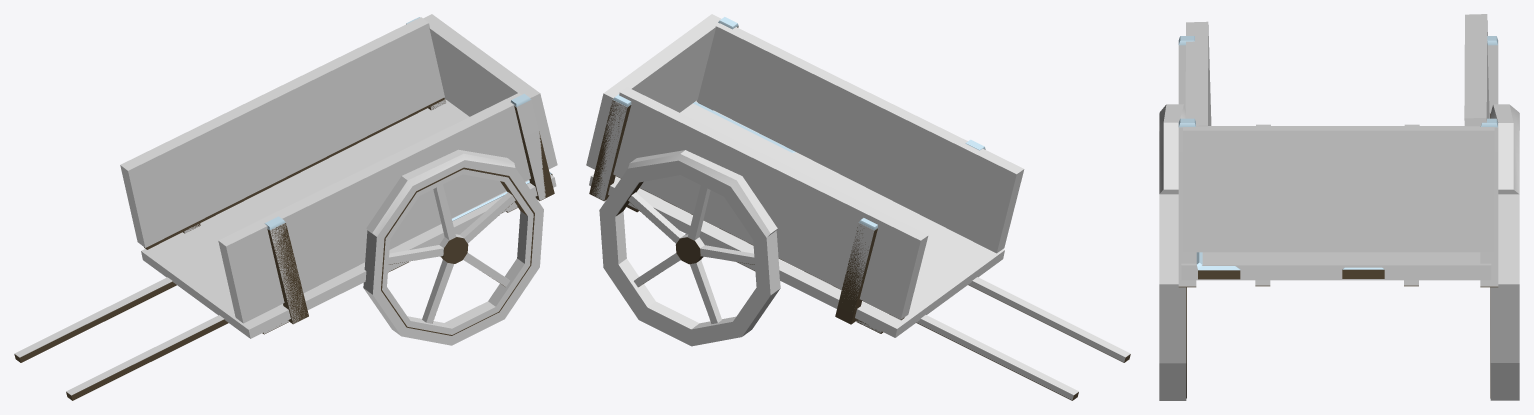
File: model_polytope_snow_cart.fbx
The picture shows the model from 3 angles, left to right: view 1: azimuth 30°, elevation 25°; view 2: azimuth 150°, elevation 25°; view 3: azimuth 270°, elevation 25°; orthographic projection. The views are drawn at different scales.
Parts seen in each view (by area): view 1: model_polytope_snow_cart_col, model_polytope_snow_cart; view 2: model_polytope_snow_cart_col, model_polytope_snow_cart; view 3: model_polytope_snow_cart_col, model_polytope_snow_cart.
Part boxes in pixels (x1=…): model_polytope_snow_cart_col: x1=14, y1=14, x2=557, y2=395; model_polytope_snow_cart: x1=14, y1=17, x2=554, y2=400; model_polytope_snow_cart_col: x1=586, y1=14, x2=1130, y2=400; model_polytope_snow_cart: x1=589, y1=17, x2=1130, y2=400; model_polytope_snow_cart_col: x1=1159, y1=14, x2=1519, y2=400; model_polytope_snow_cart: x1=1178, y1=36, x2=1497, y2=398.
Bounding box in the file's own units: 286 × 133 × 134.
Materials: 2 (1 with a texture image).
